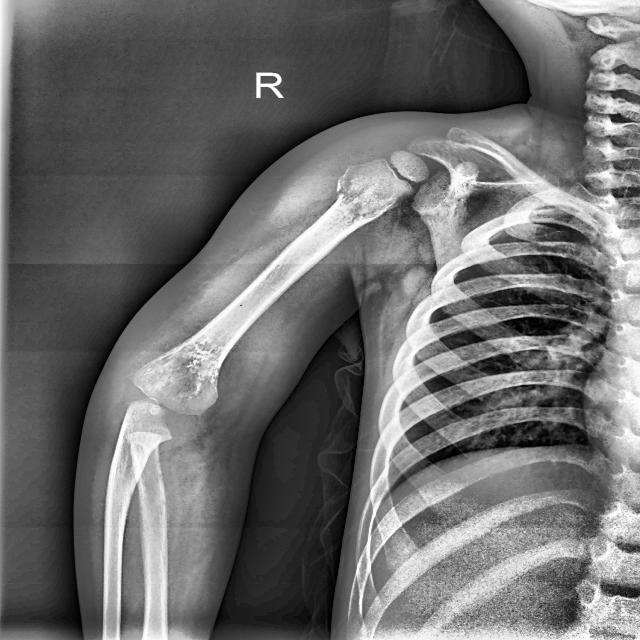Fracture: (331, 177, 354, 204)
